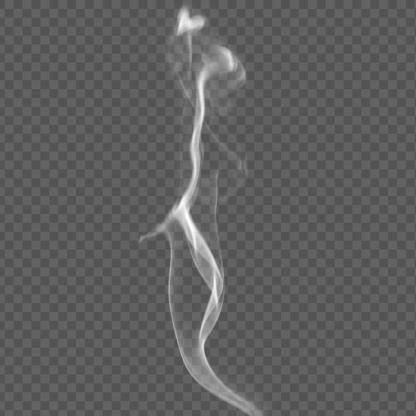smoke: (158, 9, 240, 382)
